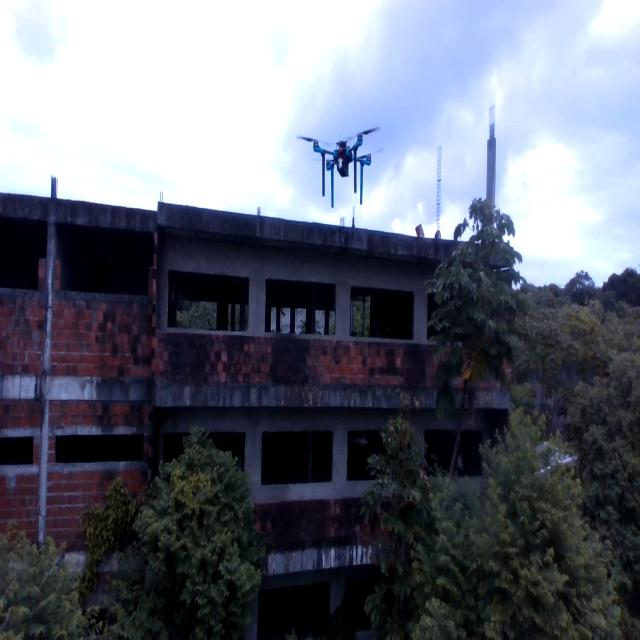-uav-: (297, 111, 384, 219)
